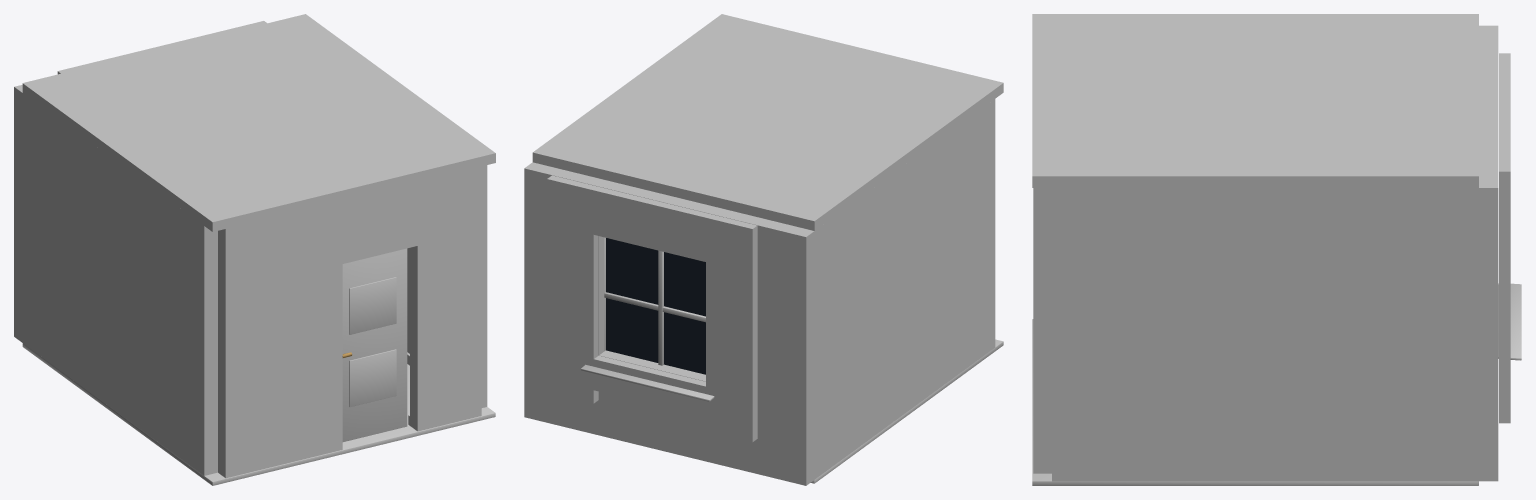
File: room.glb
The picture shows the model from 3 angles, left to right: view 1: azimuth 30°, elevation 25°; view 2: azimuth 150°, elevation 25°; view 3: azimuth 270°, elevation 25°; orthographic projection. The views are drawn at different scales.
Visible parts, largest first — view 1: Room_Ceiling, Room_Wall_Front, Room_Wall_Left, Door_Panel, Room_Floor, Door_Recess, Door_Recess.001, Room_Wall_Right, Room_Exterior_Facade; view 2: Room_Ceiling, Room_Wall_Left, Room_Exterior_Facade, Room_Wall_Back, Window_View, Room_Wall_Right, Window_Frame, Window_Exterior_Metal_Sill, Room_Floor; view 3: Room_Wall_Right, Room_Ceiling, Room_Wall_Front, Room_Exterior_Facade, Room_Wall_Back, Room_Floor, Window_Exterior_Metal_Sill.
Boxes of the visible parts, x1,y1,x2,y2 form: Room_Ceiling: [22, 14, 495, 231]; Room_Wall_Front: [218, 166, 481, 478]; Room_Wall_Left: [14, 85, 217, 475]; Door_Panel: [342, 248, 407, 441]; Room_Floor: [22, 343, 495, 485]; Door_Recess: [349, 349, 396, 406]; Door_Recess.001: [349, 277, 396, 334]; Room_Wall_Right: [407, 165, 487, 407]; Room_Exterior_Facade: [57, 21, 266, 74]; Room_Ceiling: [532, 14, 1003, 230]; Room_Wall_Left: [792, 99, 995, 485]; Room_Exterior_Facade: [547, 175, 757, 442]; Room_Wall_Back: [538, 165, 800, 482]; Window_View: [606, 238, 705, 374]; Room_Wall_Right: [524, 162, 545, 420]; Window_Frame: [604, 237, 705, 365]; Window_Exterior_Metal_Sill: [581, 364, 714, 401]; Room_Floor: [810, 339, 1003, 483]; Room_Wall_Right: [1052, 180, 1498, 481]; Room_Ceiling: [1032, 14, 1478, 187]; Room_Wall_Front: [1033, 188, 1051, 473]; Room_Exterior_Facade: [1499, 53, 1510, 423]; Room_Wall_Back: [1479, 33, 1498, 179]; Room_Floor: [1032, 319, 1478, 485]; Window_Exterior_Metal_Sill: [1498, 283, 1521, 360].
Size of the model in its own units: 3.32 by 2.96 by 4.23.
